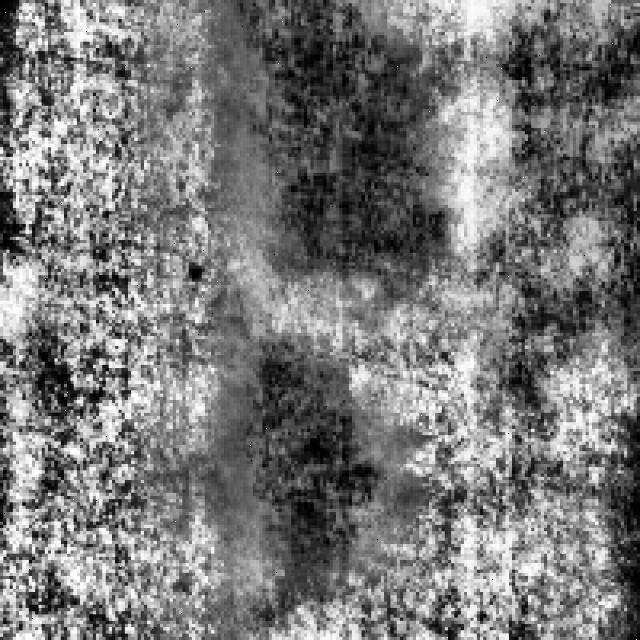Scratches: (218, 0, 452, 278), (486, 0, 640, 330), (224, 316, 416, 570)
